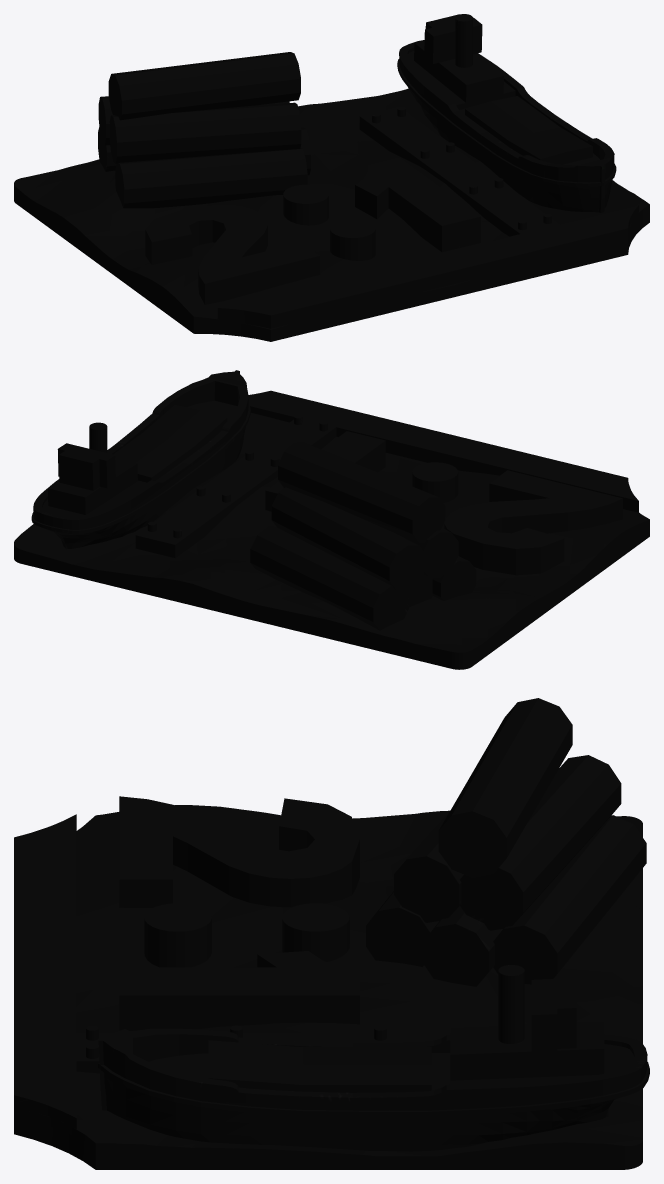
File: WoodPort.fbx
3 views of the same model, one above another, from view 1: azimuth 30°, elevation 25°; view 2: azimuth 150°, elevation 25°; view 3: azimuth 270°, elevation 25° (orthographic). The views are drawn at different scales.
Parts seen in each view (by area): view 1: node_id3; view 2: node_id3; view 3: node_id3.
Part boxes in pixels (box(x1,y1,x2,y2)): node_id3: box(14, 14, 649, 341); node_id3: box(14, 370, 649, 669); node_id3: box(14, 698, 649, 1169).
Size of the model in its own units: 0.512 by 0.1408 by 0.4181.
Materials: 1 (1 with a texture image).
